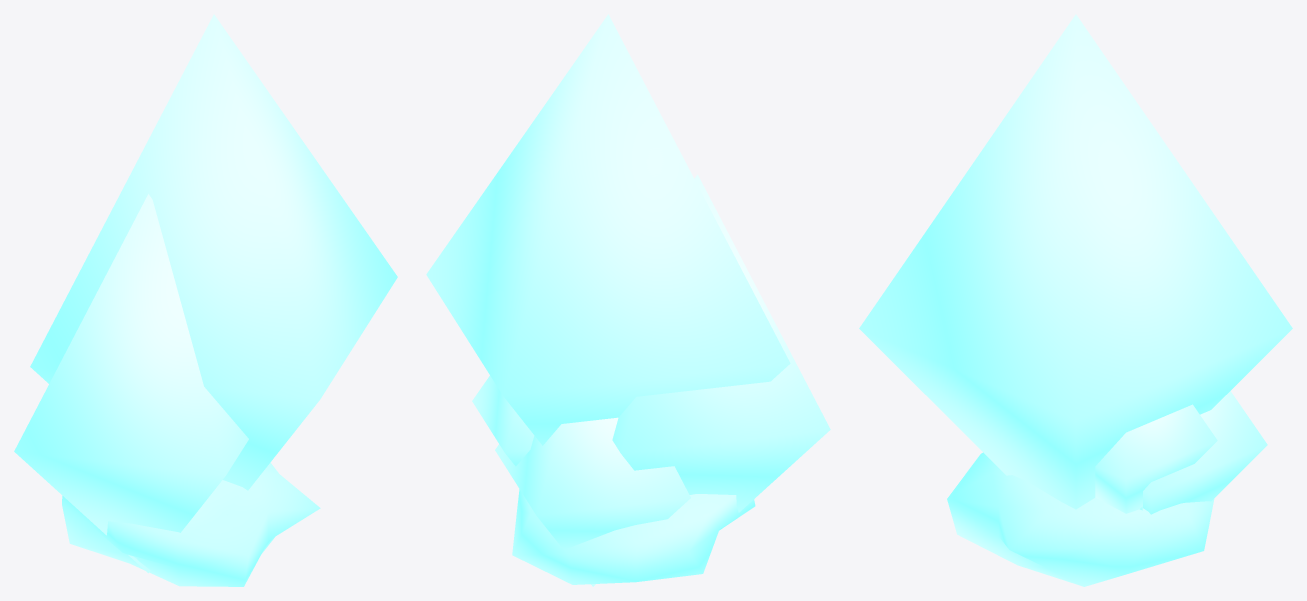
File: crystal_cluster.glb
3 renders of one model, left to right at view 1: azimuth 30°, elevation 25°; view 2: azimuth 150°, elevation 25°; view 3: azimuth 270°, elevation 25°, orthographic. The views are drawn at different scales.
Parts seen in each view (by area): view 1: crystal_cluster; view 2: crystal_cluster; view 3: crystal_cluster.
Part boxes in pixels (<box>): crystal_cluster: <box>14,14,397,586</box>; crystal_cluster: <box>426,14,830,586</box>; crystal_cluster: <box>859,14,1292,586</box>.
Bounding box in the file's own units: 5.6 × 7.38 × 5.2.
